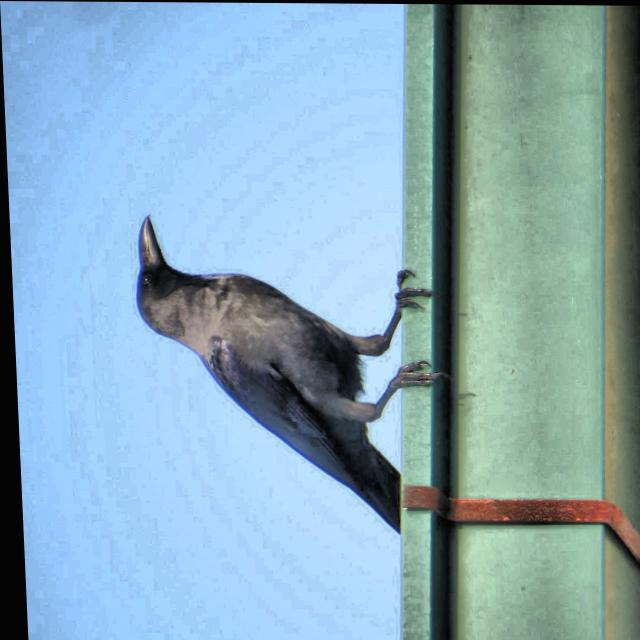crow: (110, 201, 468, 547)
